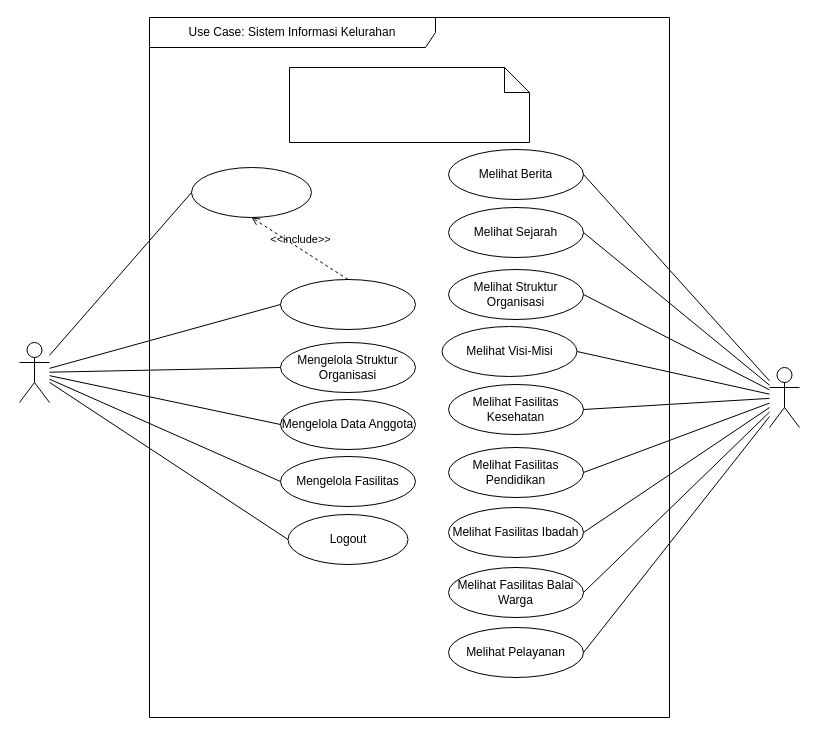
Some shapes in this 819 by 735 pixel diagram are drawn without their labels. Each missing label, with the centre of its shape:
Admin: (34,372)
Login: (251,192)
Mengelola Berita: (348,304)
Note: Semua fitur "Mengelola" hanya tersedia untuk Admin setelah login.: (409,104)
Warga: (784,397)
